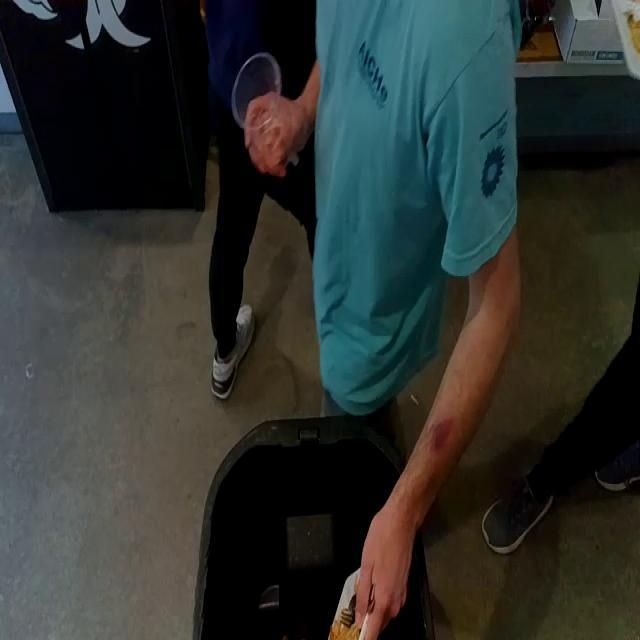Anorganik: (325, 563, 397, 640)
Organik: (334, 594, 386, 638)
